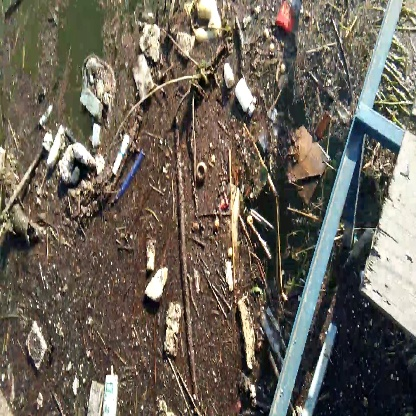branch: (168, 131, 200, 383)
